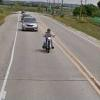Motorcycle: (40, 25, 56, 55)
